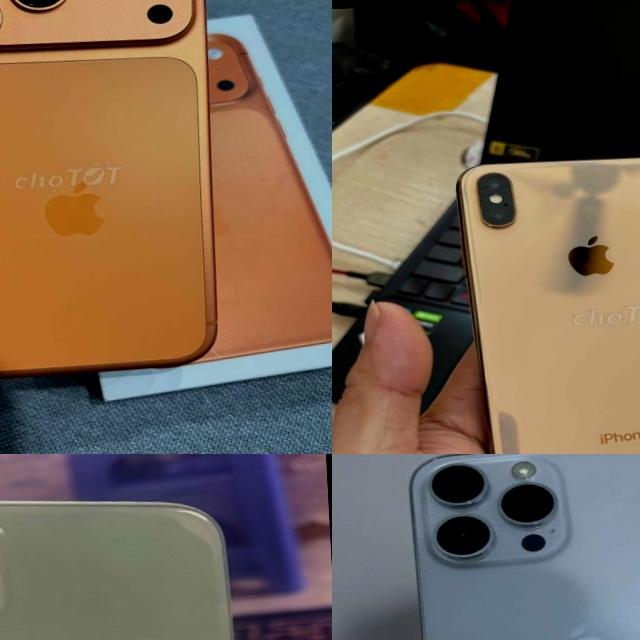gen_11: (0, 470, 276, 640)
gen_14: (413, 454, 640, 640)
gen_17: (0, 0, 237, 396)
gen_x_xs: (430, 124, 640, 454)
scratch: (464, 198, 499, 230)
